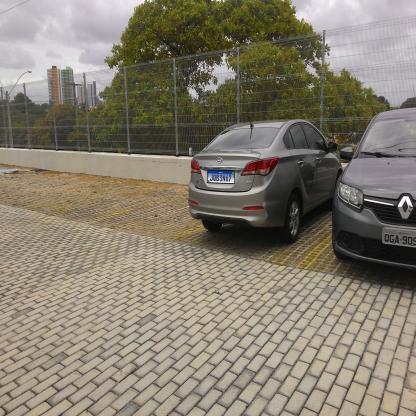PlacaM: (207, 170, 235, 184)
